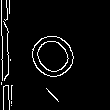O_SE: (16, 21, 83, 88)
